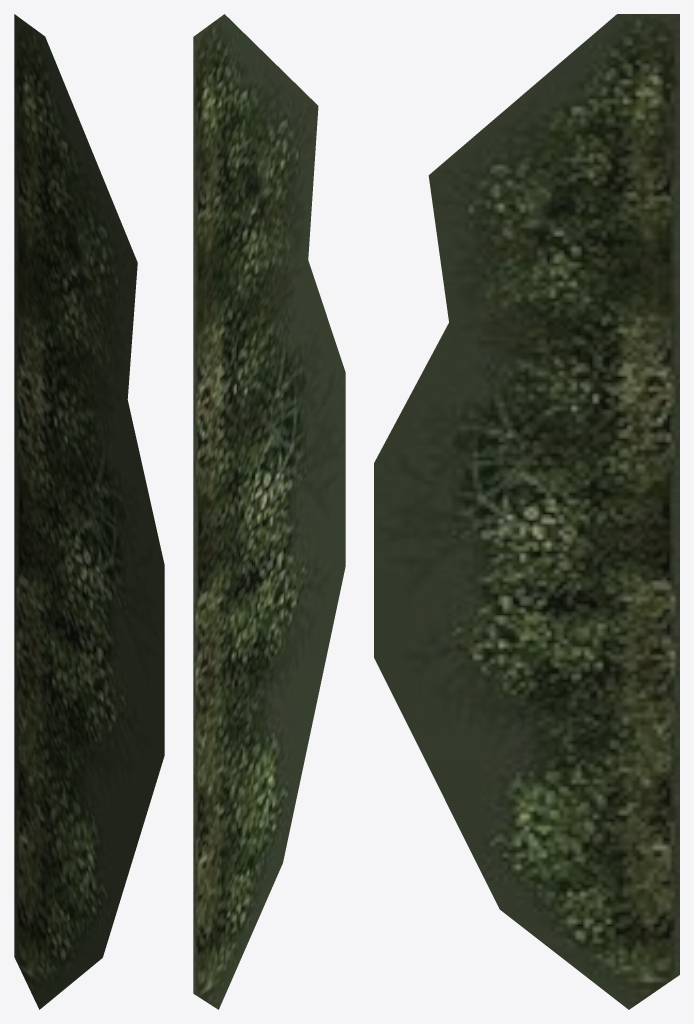
File: shadow_caen_hedge_wall_group_1.glb
3 renders of one model, left to right at view 1: azimuth 30°, elevation 25°; view 2: azimuth 150°, elevation 25°; view 3: azimuth 270°, elevation 25°, orthographic.
Size of the model in its own units: 5.15e-05 by 866 by 241.
1 material, 1 textured.
